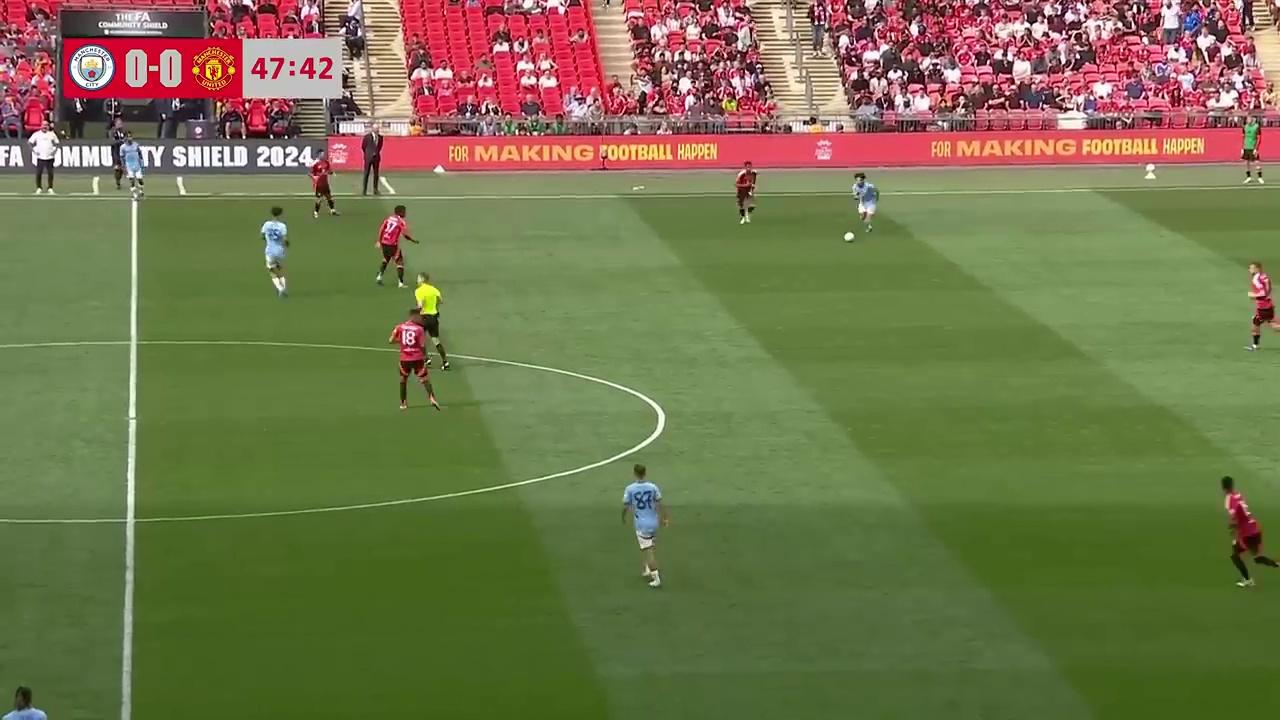ball: (843, 228, 855, 244)
player: (1221, 475, 1278, 588), (620, 464, 669, 587), (389, 309, 441, 411), (374, 205, 416, 287), (1246, 261, 1279, 351), (259, 207, 290, 298), (114, 133, 145, 197), (309, 156, 340, 219), (851, 173, 880, 233), (735, 162, 757, 224)
referee: (411, 272, 450, 366)
